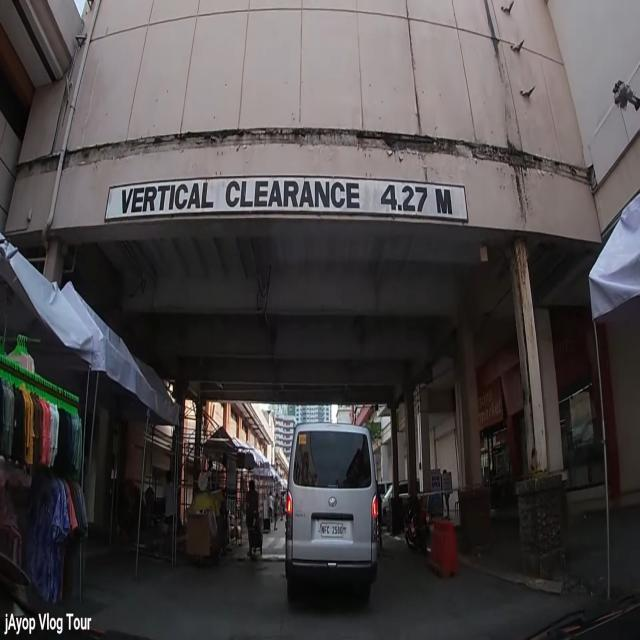car: (286, 424, 378, 606), (380, 480, 420, 520)
motorcycle: (405, 498, 428, 556)
